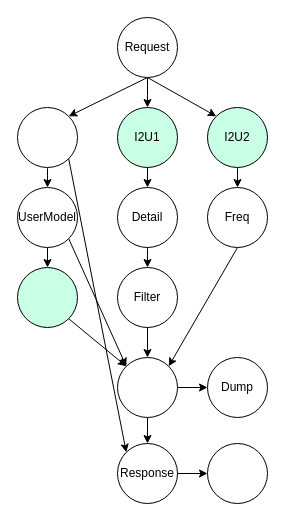
The diagram is 285 pixels wide and 521 high, and some of its shapes have lost their labels. Here are the shapes that lost their labels. From the top down, the centre of each, then its label:
At (x=47, y=137): "User".
At (x=47, y=297): "I2I".
At (x=147, y=387): "Predict".
At (x=237, y=473): "LOG".
